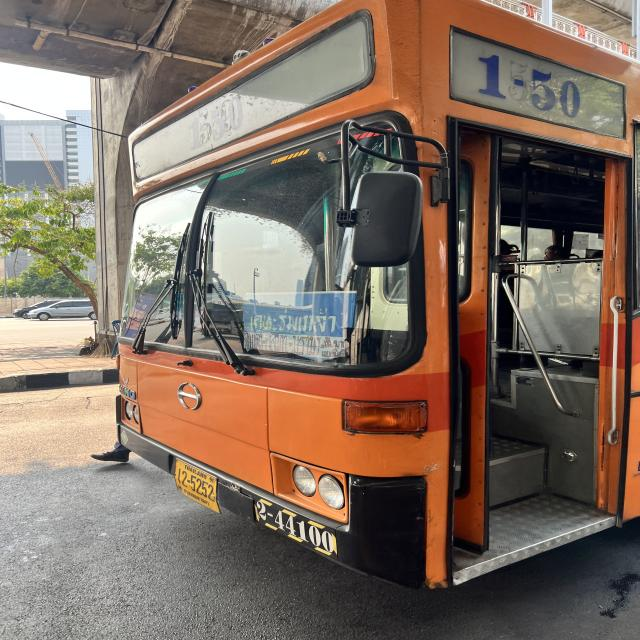BMTA-bus: (115, 0, 640, 594)
Bus-Line-Number: (470, 40, 590, 124), (183, 88, 245, 158)
Destination-Sign-Normal: (242, 290, 358, 364)
